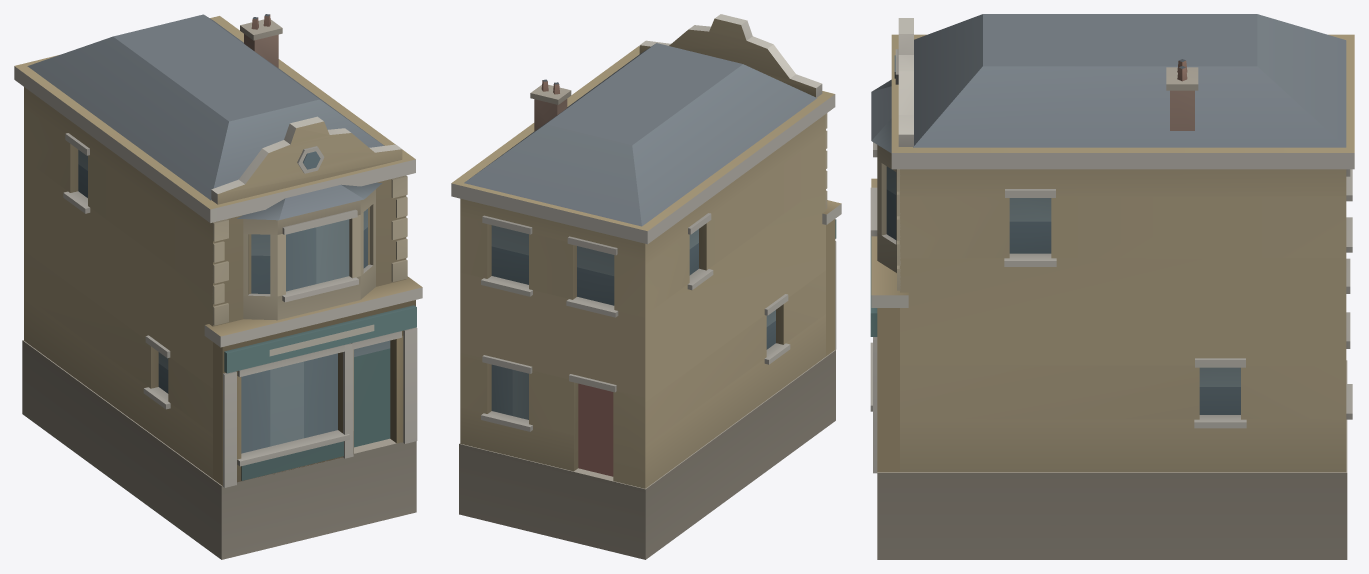
The model's file is terrace_d.lod1.glb.
3 renders of one model, left to right at view 1: azimuth 30°, elevation 25°; view 2: azimuth 150°, elevation 25°; view 3: azimuth 270°, elevation 25°, orthographic. The views are drawn at different scales.
Size of the model in its own units: 4.72 by 8.94 by 8.16.
